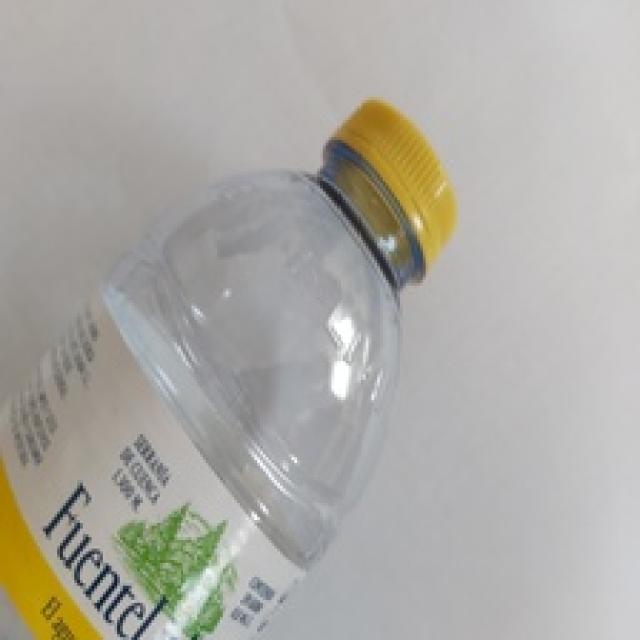Plastic: (0, 95, 458, 640)
